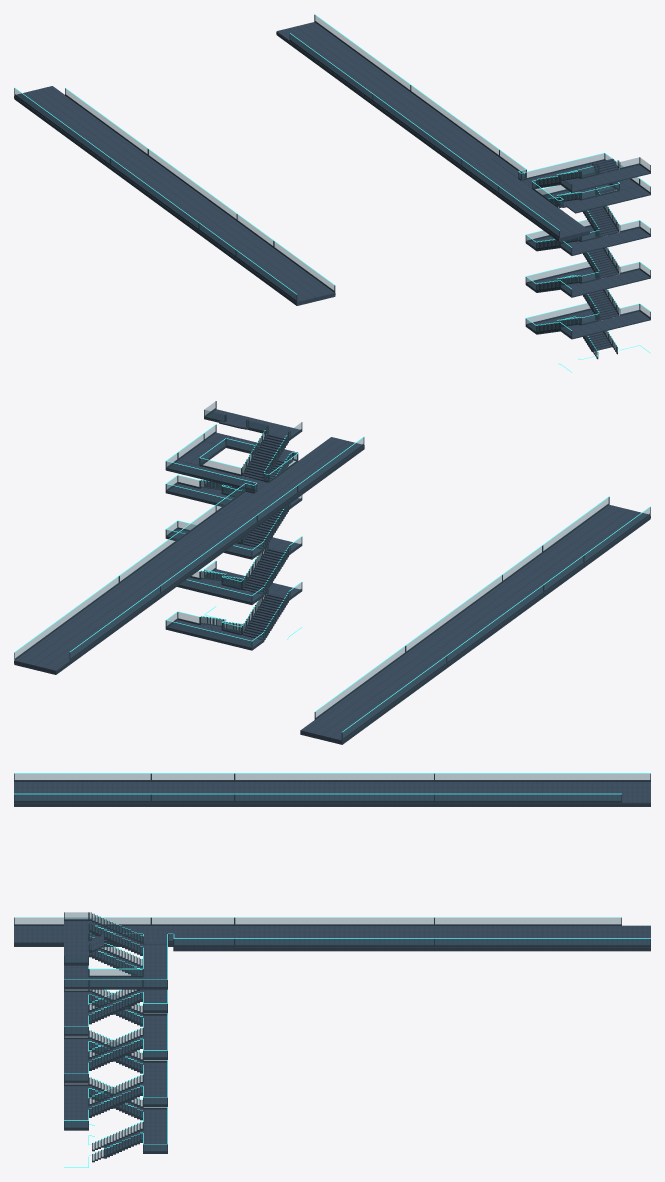
The model's file is v02-detailed-01-06-coffered.glb.
3 views of the same model, one above another, from view 1: azimuth 30°, elevation 25°; view 2: azimuth 150°, elevation 25°; view 3: azimuth 270°, elevation 25° (orthographic). The views are drawn at different scales.
Parts seen in each view (by area): view 1: v02-detailed-01-06-coffered; view 2: v02-detailed-01-06-coffered; view 3: v02-detailed-01-06-coffered.
Part boxes in pixels (box(x1,y1,x2,y2)): v02-detailed-01-06-coffered: box(14, 14, 650, 372); v02-detailed-01-06-coffered: box(14, 401, 650, 744); v02-detailed-01-06-coffered: box(14, 773, 650, 1167).
Bounding box in the file's own units: 58.85 × 29.02 × 76.5.
Materials: 5 (1 with a texture image).
